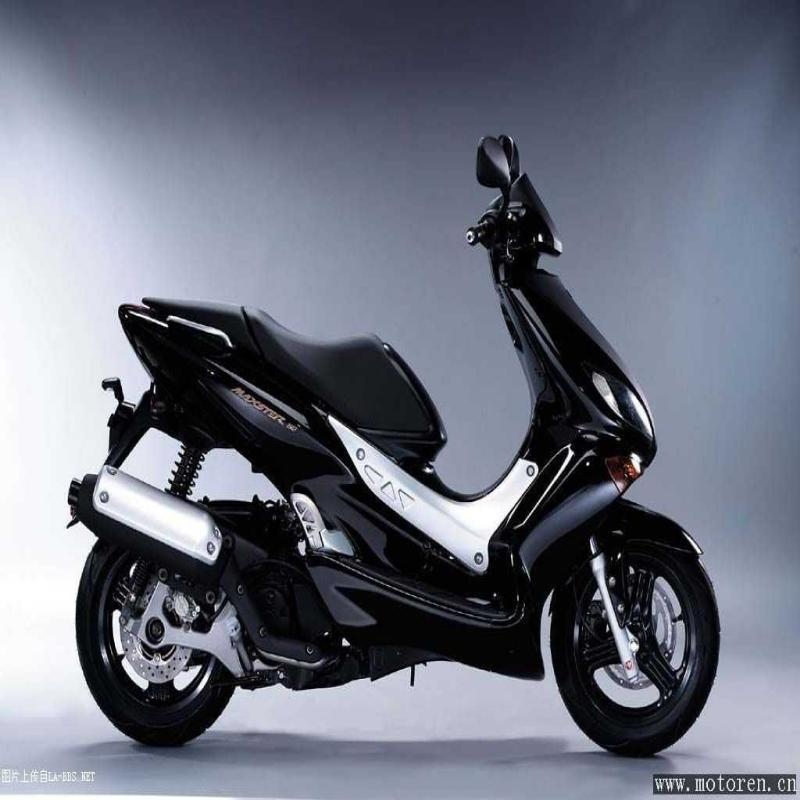bike: (70, 91, 720, 775)
